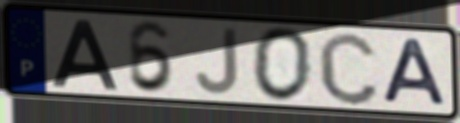6: (126, 18, 175, 96)
A: (49, 17, 121, 92), (379, 36, 450, 108)
C: (315, 29, 382, 108)
J: (193, 27, 242, 97)
O: (249, 24, 315, 104)
